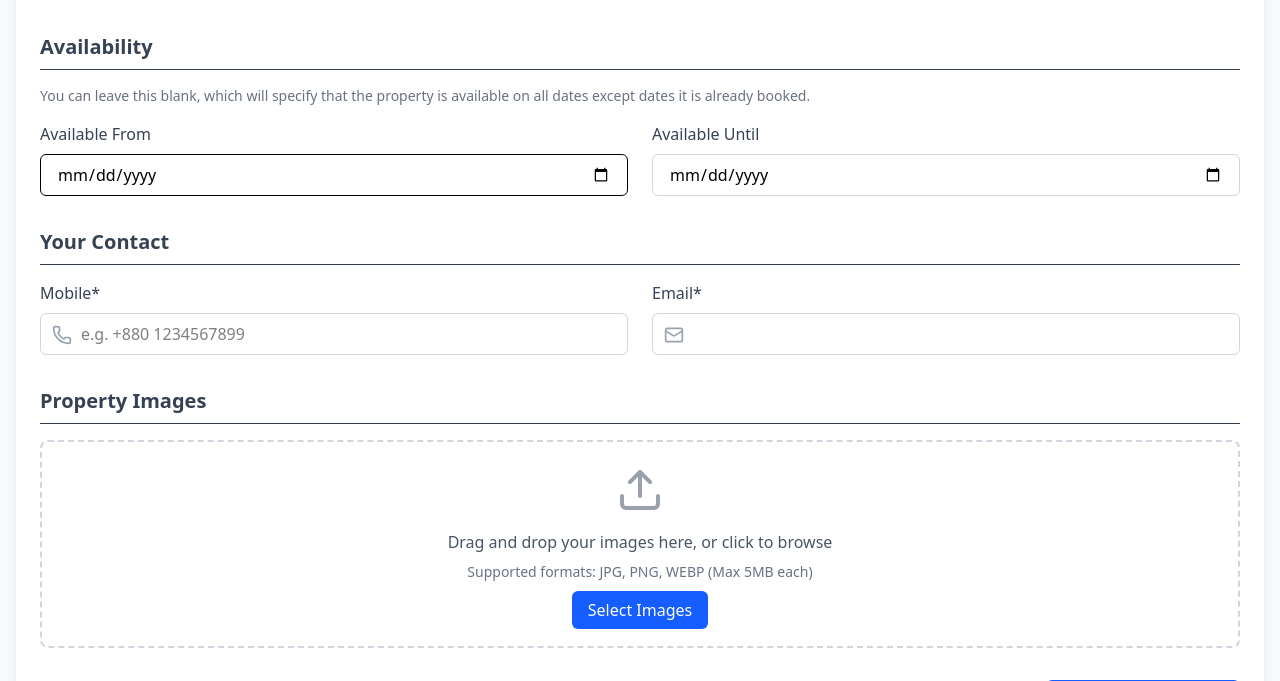
it: PropertyForm Component › validates mobile format and shows error message
The image size is (1280, 681).
(page scrolled)
Note: Fill in the mobile field with invalid format
Type "123" into the field labelled "Mobile*" at (334, 334), box [40,313,628,355]
(page scrolled)
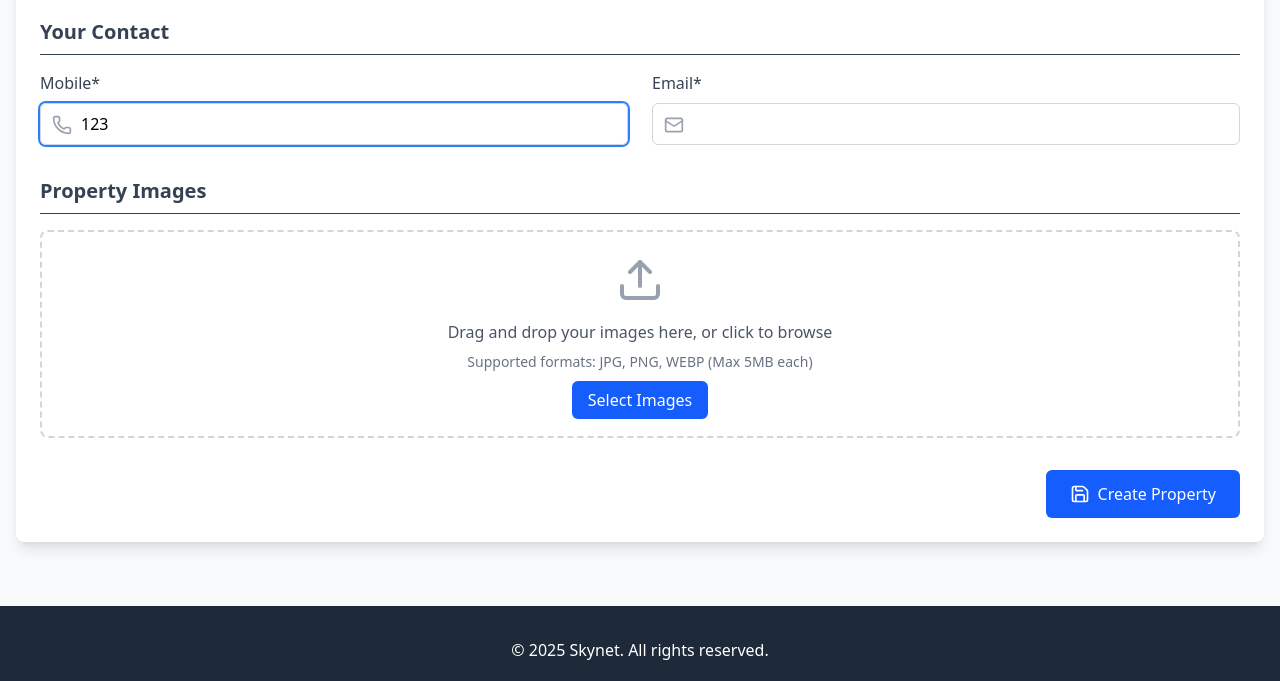
Note: Submit form
Click the button "Create Property" at (1143, 494), box [1046,470,1240,518]
(page scrolled)
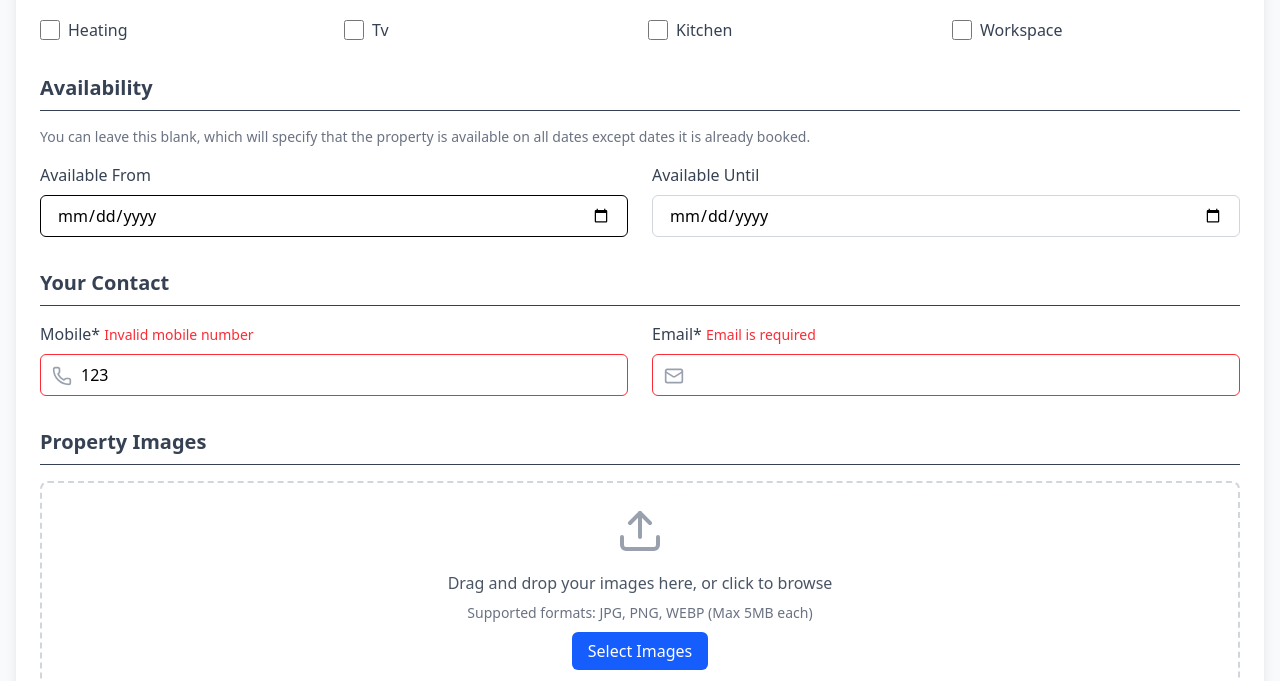
Expected: the text "Invalid mobile number" is shown, [104,325,254,344]
